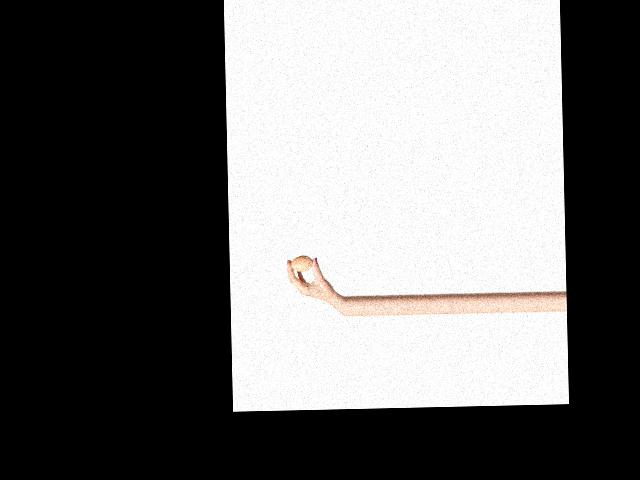egg: (291, 256, 313, 271)
